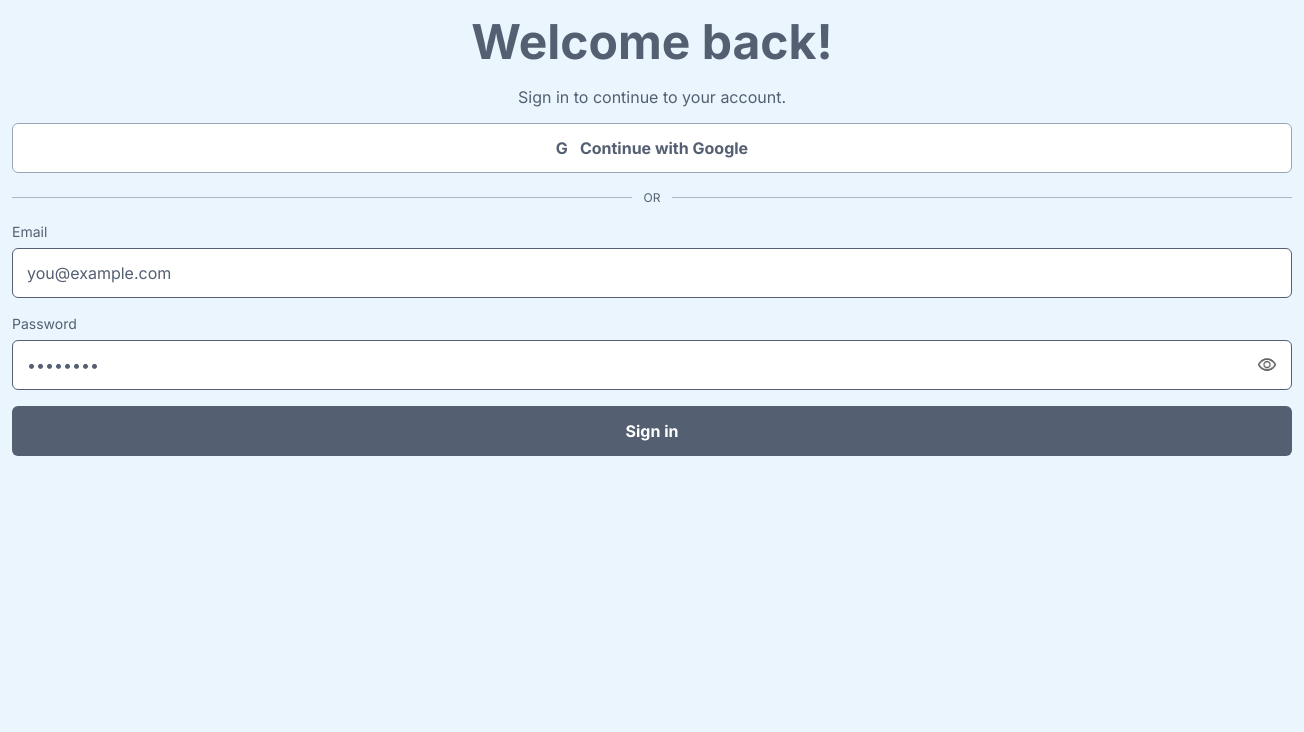
Edge Cases and Bugs › Displays the inline authentication error for invalid credentials without a toast
In the field labelled "Email": (652, 273) [12,248,1292,298], type "invalid-user@example.com"
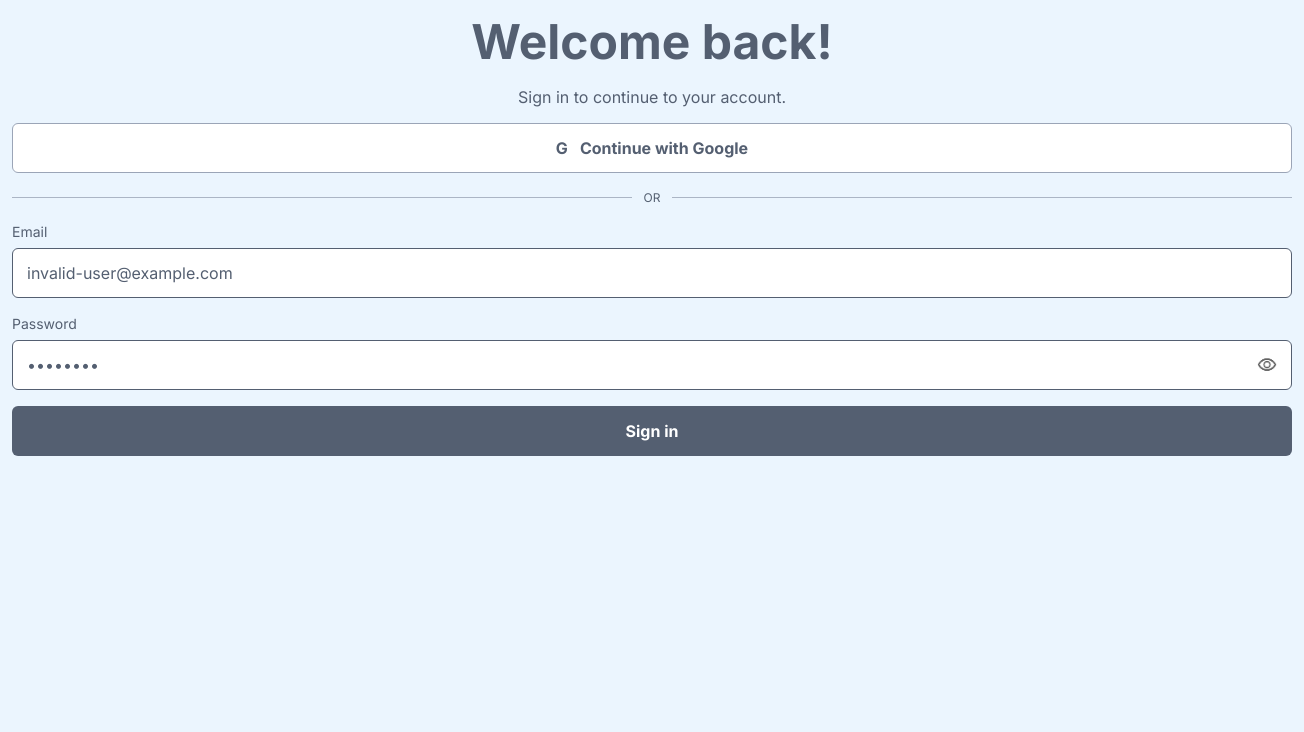
In the password field labelled "Password": (652, 365) [12,340,1292,390], type "wrong-password"
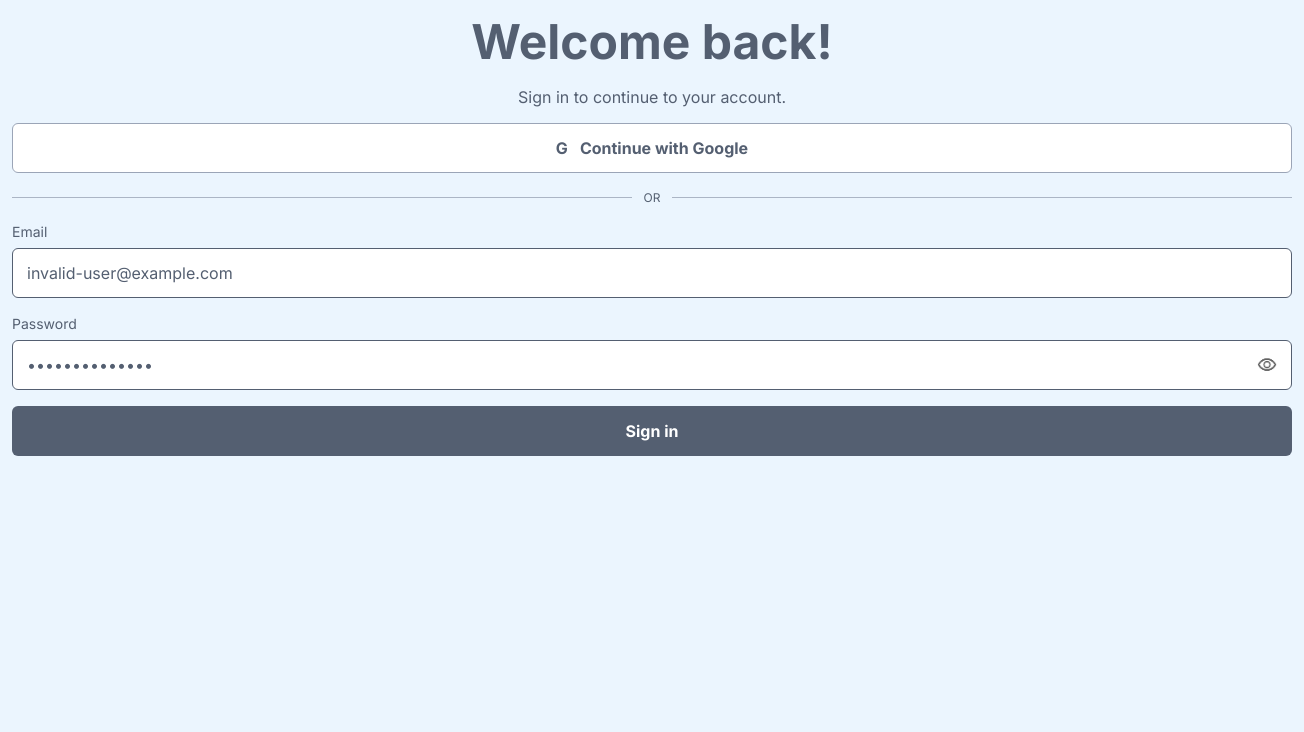
Click the button "Sign in": (652, 431) [12,406,1292,456]
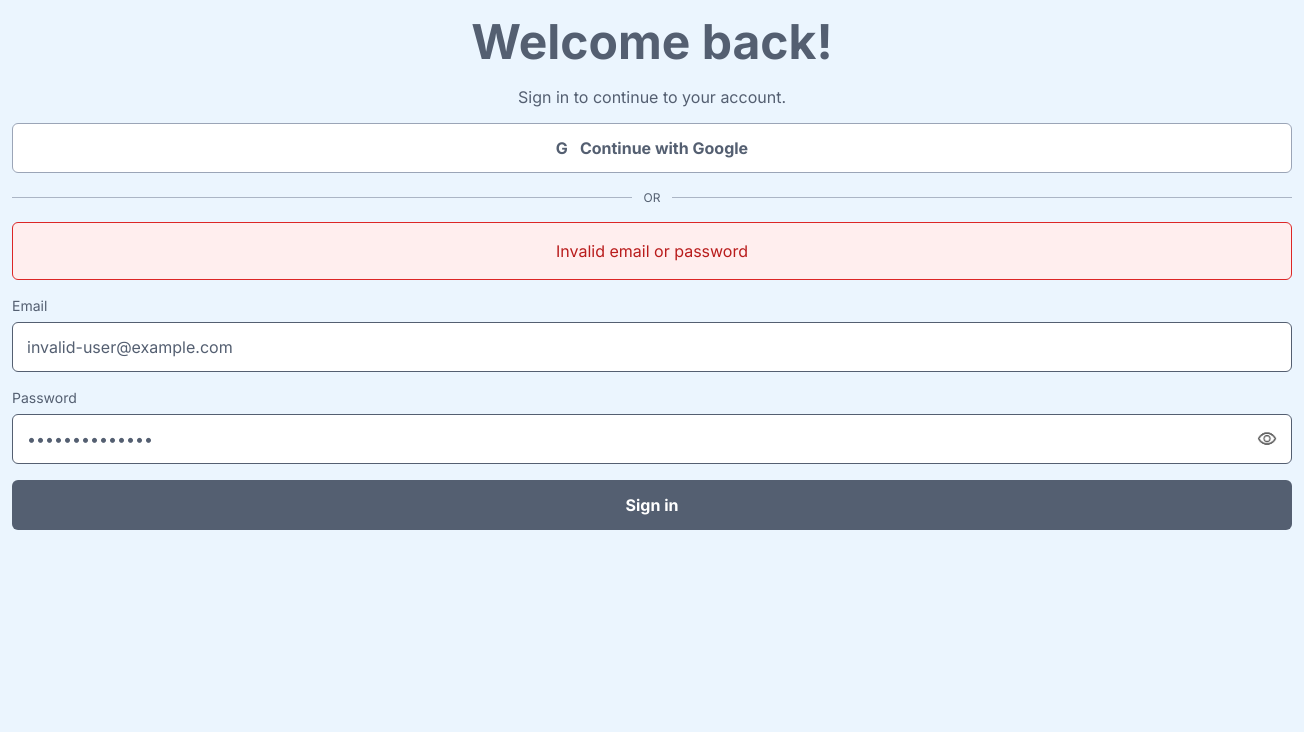
Now the message "Invalid email or password" is shown, box [12,222,1292,280]
Now the text "Invalid email or password" is shown, box [556,239,748,263]
Now the message with test id "authentication-error" reads "Invalid email or password", box [556,241,748,261]
